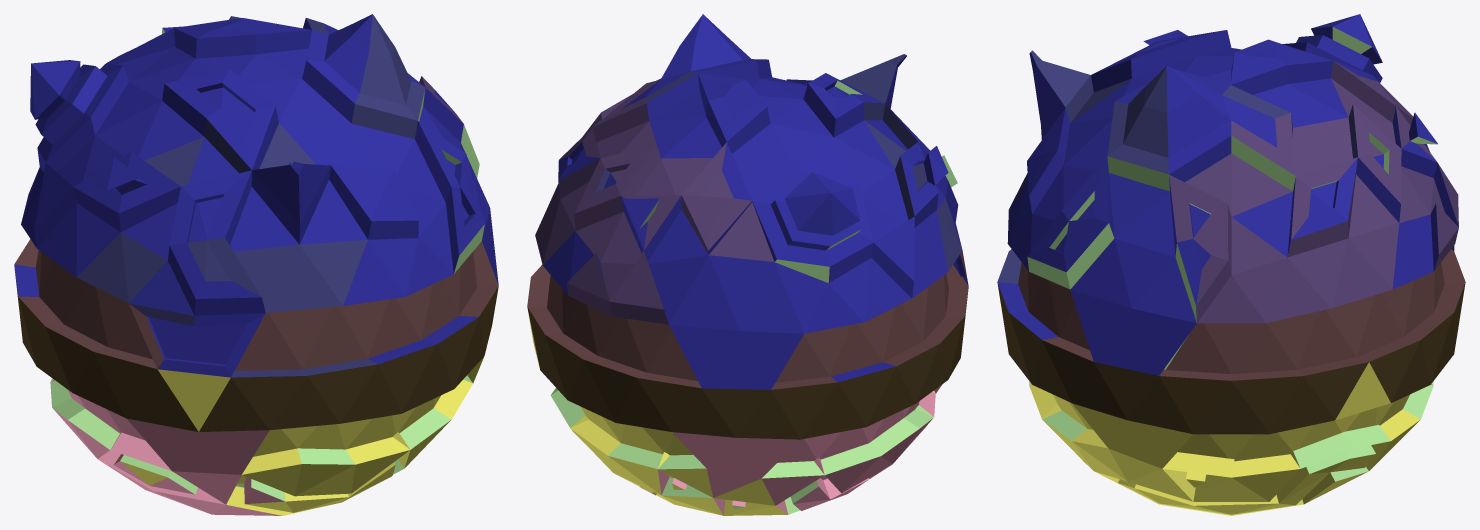
Rendered from Planeta_3.fbx.
3 renders of one model, left to right at view 1: azimuth 30°, elevation 25°; view 2: azimuth 150°, elevation 25°; view 3: azimuth 270°, elevation 25°, orthographic. The views are drawn at different scales.
Visible parts, largest first — view 1: Icosphere.002; view 2: Icosphere.002; view 3: Icosphere.002.
Part boxes in pixels (<box>): Icosphere.002: <box>14,14,498,515</box>; Icosphere.002: <box>527,14,968,515</box>; Icosphere.002: <box>997,14,1465,515</box>.
Bounding box in the file's own units: 2000 × 2202 × 2000.
